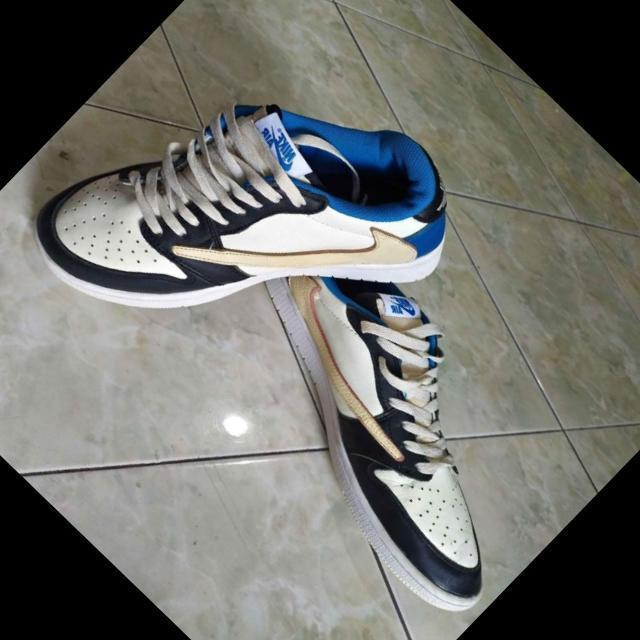nike fake jordan 1: (112, 150, 600, 632), (0, 0, 489, 462)
